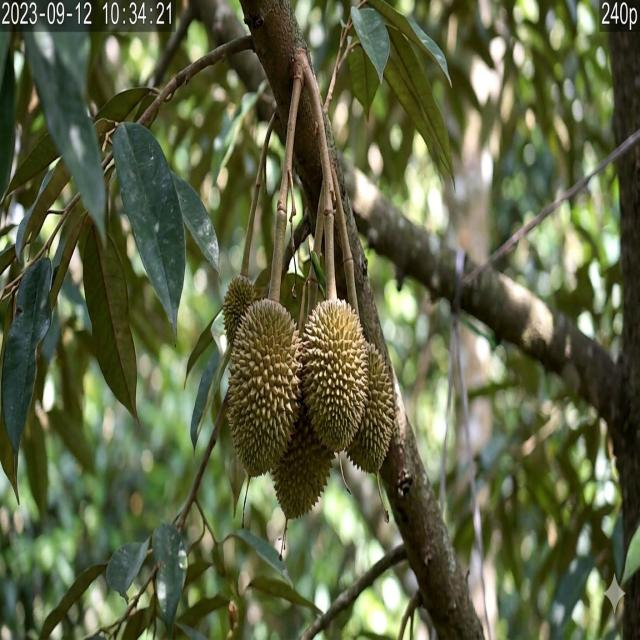immature: (226, 294, 303, 477), (299, 295, 370, 451), (272, 408, 334, 526), (344, 345, 396, 480), (222, 275, 260, 346)
